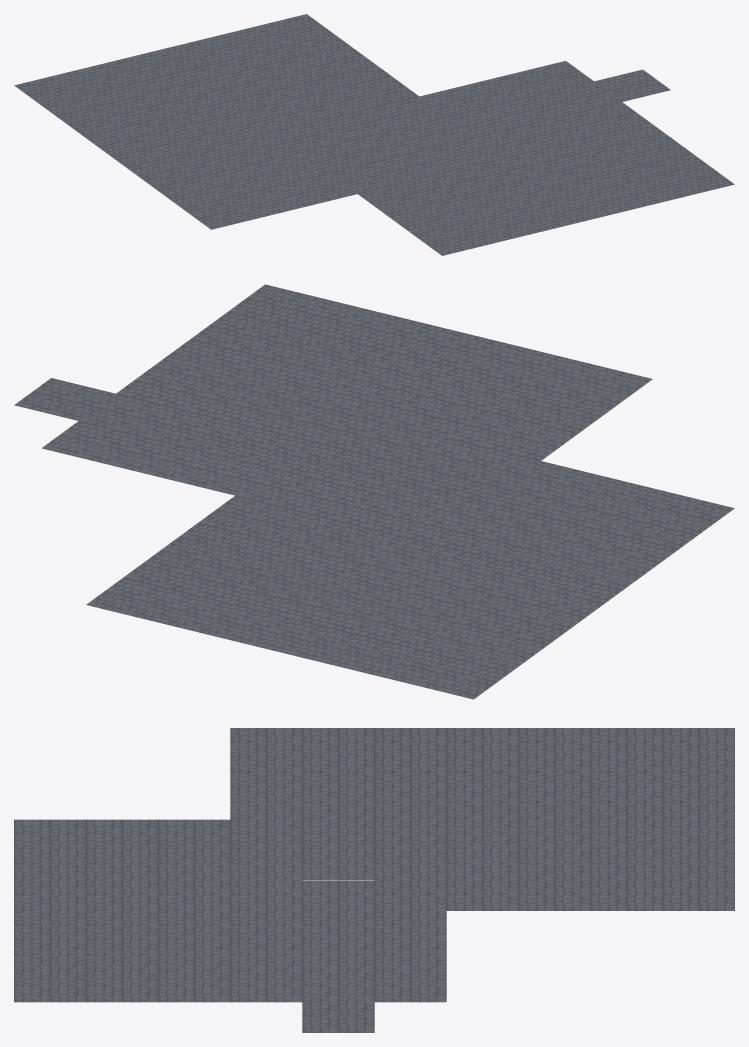
Rendered from StageGround.fbx.
3 views of the same model, one above another, from view 1: azimuth 30°, elevation 25°; view 2: azimuth 150°, elevation 25°; view 3: azimuth 270°, elevation 25° (orthographic). The views are drawn at different scales.
Parts seen in each view (by area): view 1: Castle_Ground_X_Bright_8x8__62_, Castle_Ground_X_Bright_8x8__64_, Castle_Ground_X_Bright_8x8__31_, Castle_Ground_X_Bright_8x8__28__4, Castle_Ground_X_Bright_8x8__30__2, Castle_Ground_X_Bright_8x8__45_, Castle_Ground_X_Bright_8x8__46_, Castle_Ground_X_Bright_8x8__59_, Castle_Ground_X_Bright_8x8__34__1, Castle_Ground_X_Bright_8x8__38__1, Castle_Ground_X_Bright_8x8__29__2, Castle_Ground_X_Bright_8x8__33__2 (+64 smaller); view 2: Castle_Ground_X_Bright_8x8__45_, Castle_Ground_X_Bright_8x8__29__2, Castle_Ground_X_Bright_8x8__41_, Castle_Ground_X_Bright_8x8__28__3, Castle_Ground_X_Bright_8x8__36_, Castle_Ground_X_Bright_8x8__37_, Castle_Ground_X_Bright_8x8__61_, Castle_Ground_X_Bright_8x8__66_, Castle_Ground_X_Bright_8x8__28__1, Castle_Ground_X_Bright_8x8__32__4, Castle_Ground_X_Bright_8x8__31__2, Castle_Ground_X_Bright_8x8__32_ (+62 smaller); view 3: Castle_Ground_X_Bright_8x8__28_, Castle_Ground_X_Bright_8x8__33_, Castle_Ground_X_Bright_8x8__37_, Castle_Ground_X_Bright_8x8__38_, Castle_Ground_X_Bright_8x8__39_, Castle_Ground_X_Bright_8x8__40_, Castle_Ground_X_Bright_8x8__42_, Castle_Ground_X_Bright_8x8__43_, Castle_Ground_X_Bright_8x8__44_, Castle_Ground_X_Bright_8x8__45_, Castle_Ground_X_Bright_8x8__47_, Castle_Ground_X_Bright_8x8__49_ (+58 smaller).
Boxes of the visible parts, x1=… form: Castle_Ground_X_Bright_8x8__62_: x1=91, y1=82, x2=167, y2=114; Castle_Ground_X_Bright_8x8__64_: x1=258, y1=14, x2=334, y2=46; Castle_Ground_X_Bright_8x8__31_: x1=455, y1=158, x2=531, y2=190; Castle_Ground_X_Bright_8x8__28__4: x1=581, y1=155, x2=657, y2=187; Castle_Ground_X_Bright_8x8__30__2: x1=414, y1=223, x2=490, y2=255; Castle_Ground_X_Bright_8x8__45_: x1=127, y1=156, x2=202, y2=188; Castle_Ground_X_Bright_8x8__46_: x1=343, y1=76, x2=419, y2=108; Castle_Ground_X_Bright_8x8__59_: x1=237, y1=46, x2=313, y2=78; Castle_Ground_X_Bright_8x8__34__1: x1=329, y1=161, x2=405, y2=193; Castle_Ground_X_Bright_8x8__38__1: x1=183, y1=197, x2=259, y2=229; Castle_Ground_X_Bright_8x8__29__2: x1=546, y1=81, x2=621, y2=113; Castle_Ground_X_Bright_8x8__33__2: x1=435, y1=191, x2=511, y2=223; Castle_Ground_X_Bright_8x8__45_: x1=558, y1=547, x2=659, y2=589; Castle_Ground_X_Bright_8x8__29__2: x1=79, y1=394, x2=180, y2=436; Castle_Ground_X_Bright_8x8__41_: x1=531, y1=504, x2=632, y2=546; Castle_Ground_X_Bright_8x8__28__3: x1=106, y1=437, x2=207, y2=479; Castle_Ground_X_Bright_8x8__36_: x1=402, y1=472, x2=503, y2=515; Castle_Ground_X_Bright_8x8__37_: x1=235, y1=468, x2=336, y2=511; Castle_Ground_X_Bright_8x8__61_: x1=317, y1=597, x2=418, y2=640; Castle_Ground_X_Bright_8x8__66_: x1=215, y1=609, x2=316, y2=651; Castle_Ground_X_Bright_8x8__28__1: x1=218, y1=355, x2=319, y2=397; Castle_Ground_X_Bright_8x8__32__4: x1=320, y1=343, x2=421, y2=386; Castle_Ground_X_Bright_8x8__31__2: x1=422, y1=332, x2=523, y2=374; Castle_Ground_X_Bright_8x8__32_: x1=245, y1=398, x2=346, y2=440; Castle_Ground_X_Bright_8x8__28_: x1=230, y1=941, x2=302, y2=971; Castle_Ground_X_Bright_8x8__33_: x1=230, y1=880, x2=302, y2=910; Castle_Ground_X_Bright_8x8__37_: x1=374, y1=880, x2=446, y2=910; Castle_Ground_X_Bright_8x8__38_: x1=374, y1=850, x2=446, y2=880; Castle_Ground_X_Bright_8x8__39_: x1=374, y1=819, x2=446, y2=849; Castle_Ground_X_Bright_8x8__40_: x1=302, y1=789, x2=374, y2=819; Castle_Ground_X_Bright_8x8__42_: x1=302, y1=728, x2=374, y2=758; Castle_Ground_X_Bright_8x8__43_: x1=374, y1=789, x2=446, y2=819; Castle_Ground_X_Bright_8x8__44_: x1=374, y1=758, x2=446, y2=788; Castle_Ground_X_Bright_8x8__45_: x1=374, y1=728, x2=446, y2=758; Castle_Ground_X_Bright_8x8__47_: x1=446, y1=850, x2=518, y2=880; Castle_Ground_X_Bright_8x8__49_: x1=446, y1=789, x2=518, y2=819.
Size of the model in its own units: 6000 by 8.05e-05 by 6000.
Materials: 1 (1 with a texture image).
